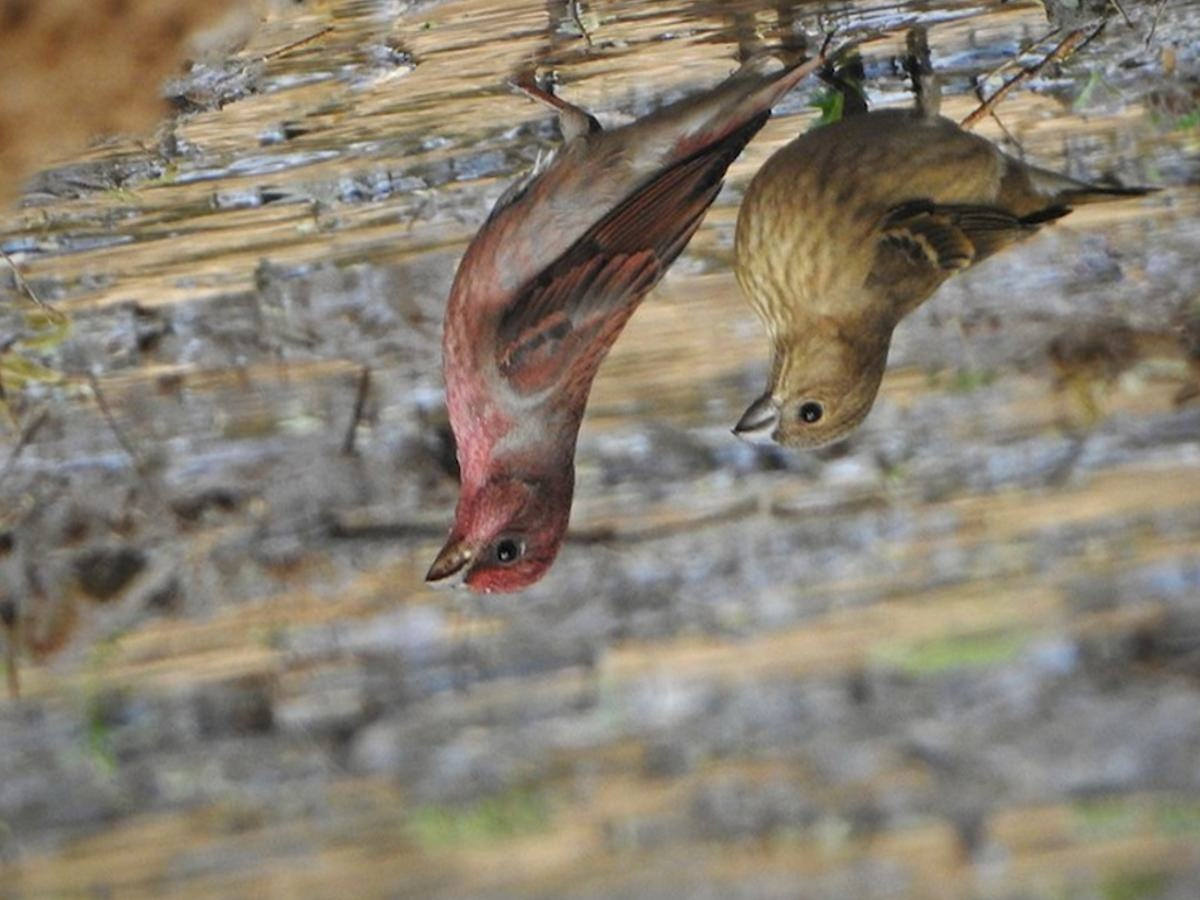rosefinch: (394, 33, 754, 631)
